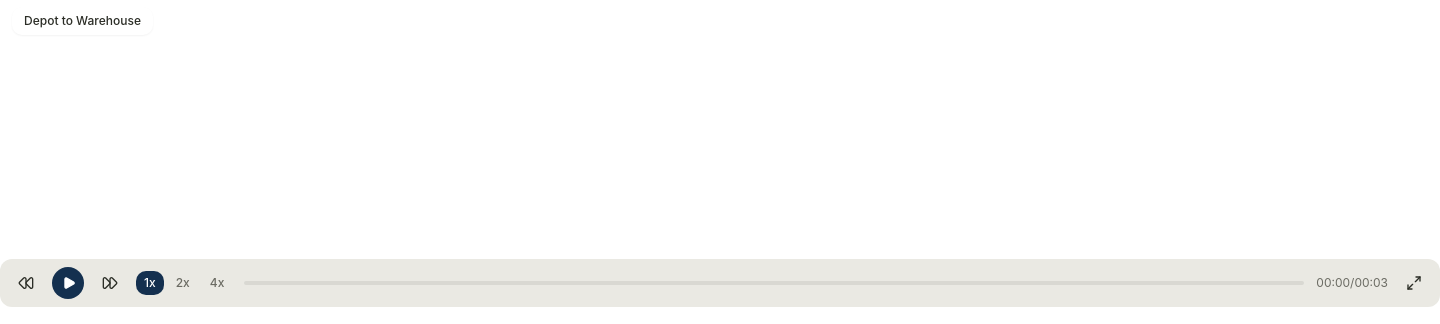
RouteMap › toggles the play/pause button when play is clicked
Expected: the icon with test id "play-icon" is shown, [62,276,76,290]
Click the button with test id "play-pause-button": coordinates (68, 283) [52,267,84,299]
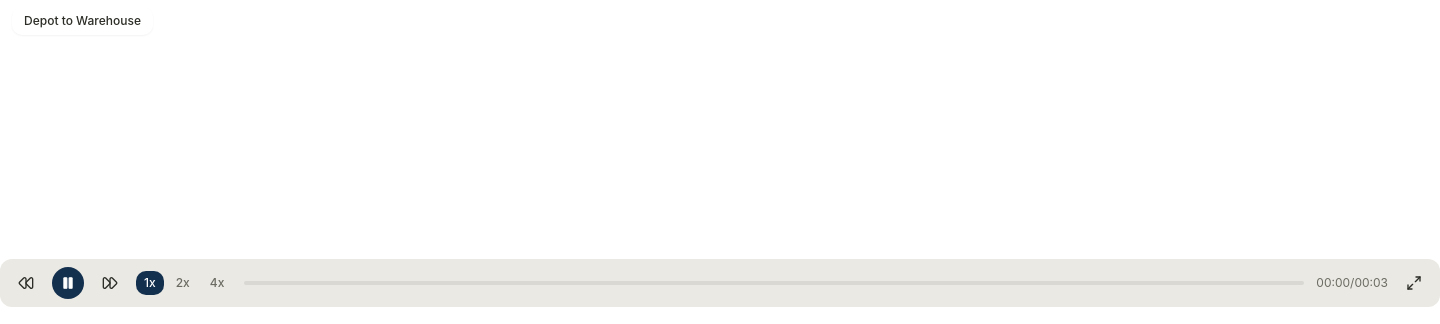
Expected: the icon with test id "pause-icon" is shown, [61,276,75,290]
Click the button with test id "play-pause-button": coordinates (68, 283) [52,267,84,299]
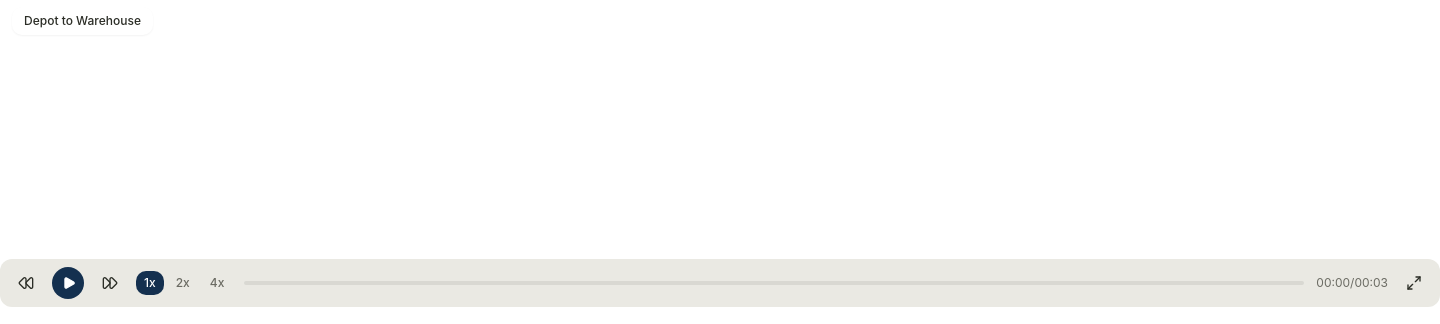
Expected: the icon with test id "play-icon" is shown, [62,276,76,290]
